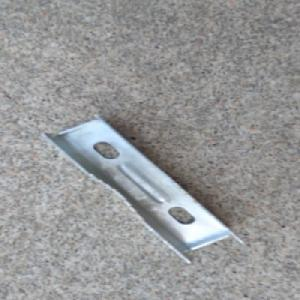ClampPart: (42, 112, 250, 264)
